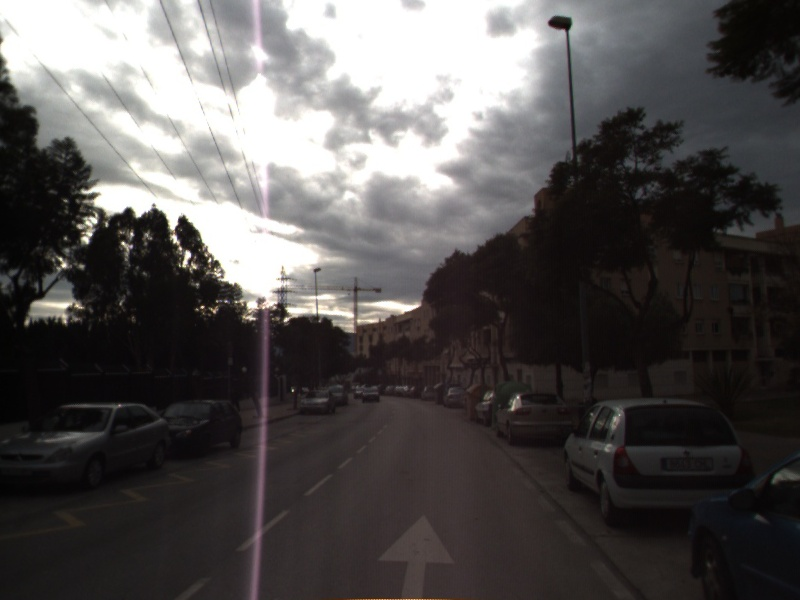STRAIGHT: (375, 510, 459, 600)
